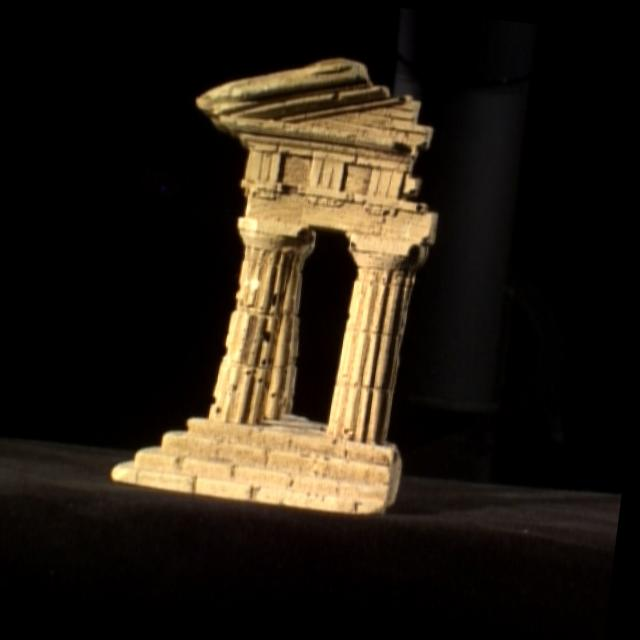Instance-Segmentation: (110, 60, 434, 513)
